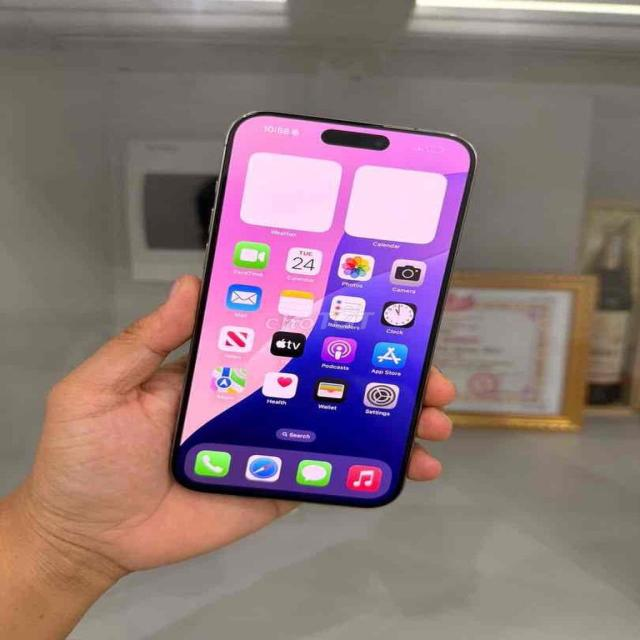gen_15: (132, 96, 482, 529)
